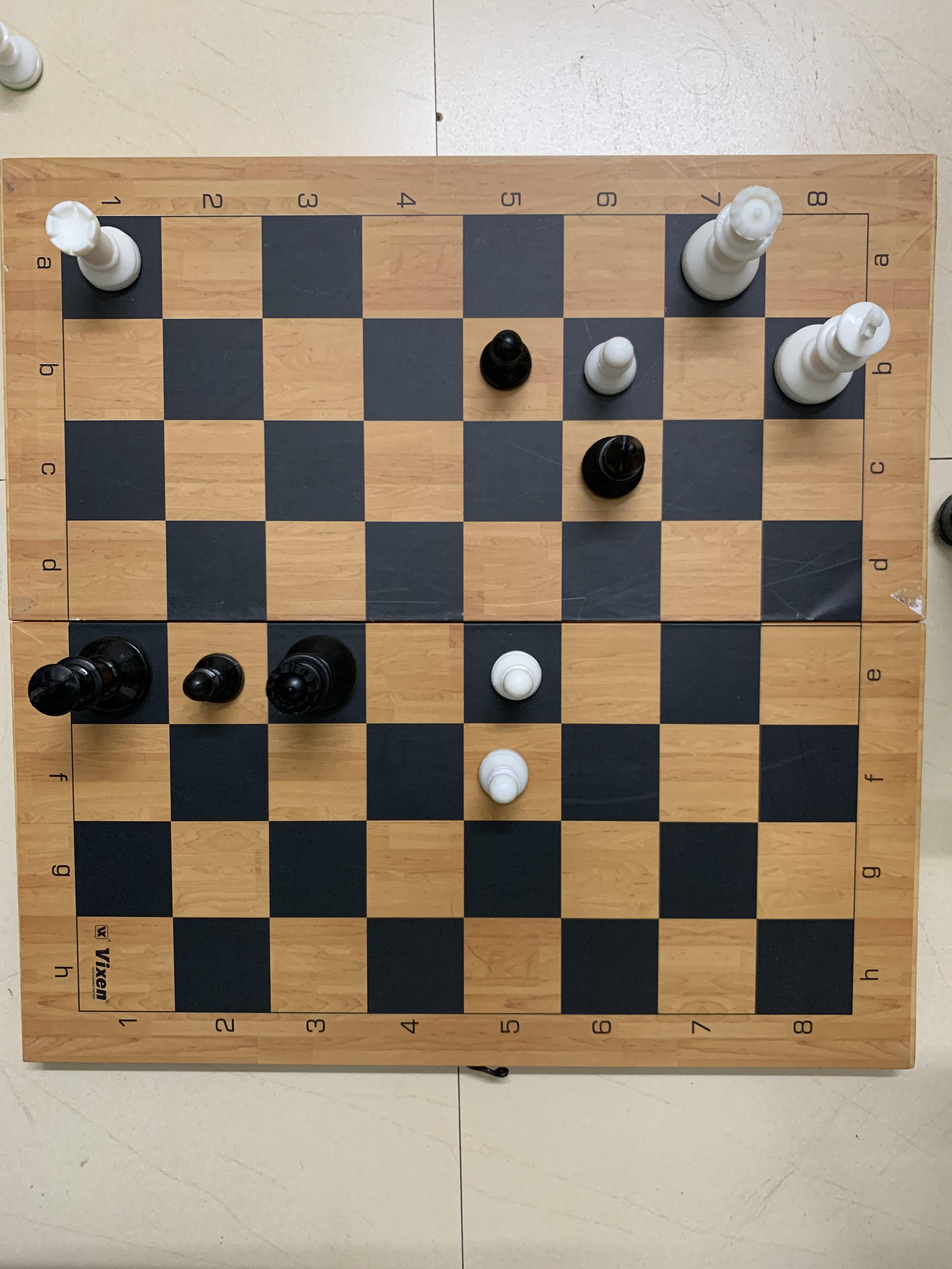black_bishop: (567, 420, 659, 526)
black_king: (28, 631, 156, 737)
black_pawn: (168, 634, 259, 725), (472, 317, 550, 410)
black_queen: (261, 631, 365, 744)
white_king: (771, 304, 904, 409)
white_pawn: (466, 623, 555, 721), (472, 732, 546, 814), (581, 320, 653, 399)
white_queen: (672, 176, 799, 300)
white_rook: (31, 182, 154, 317)
